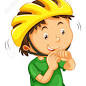helmets: (10, 1, 74, 50)
